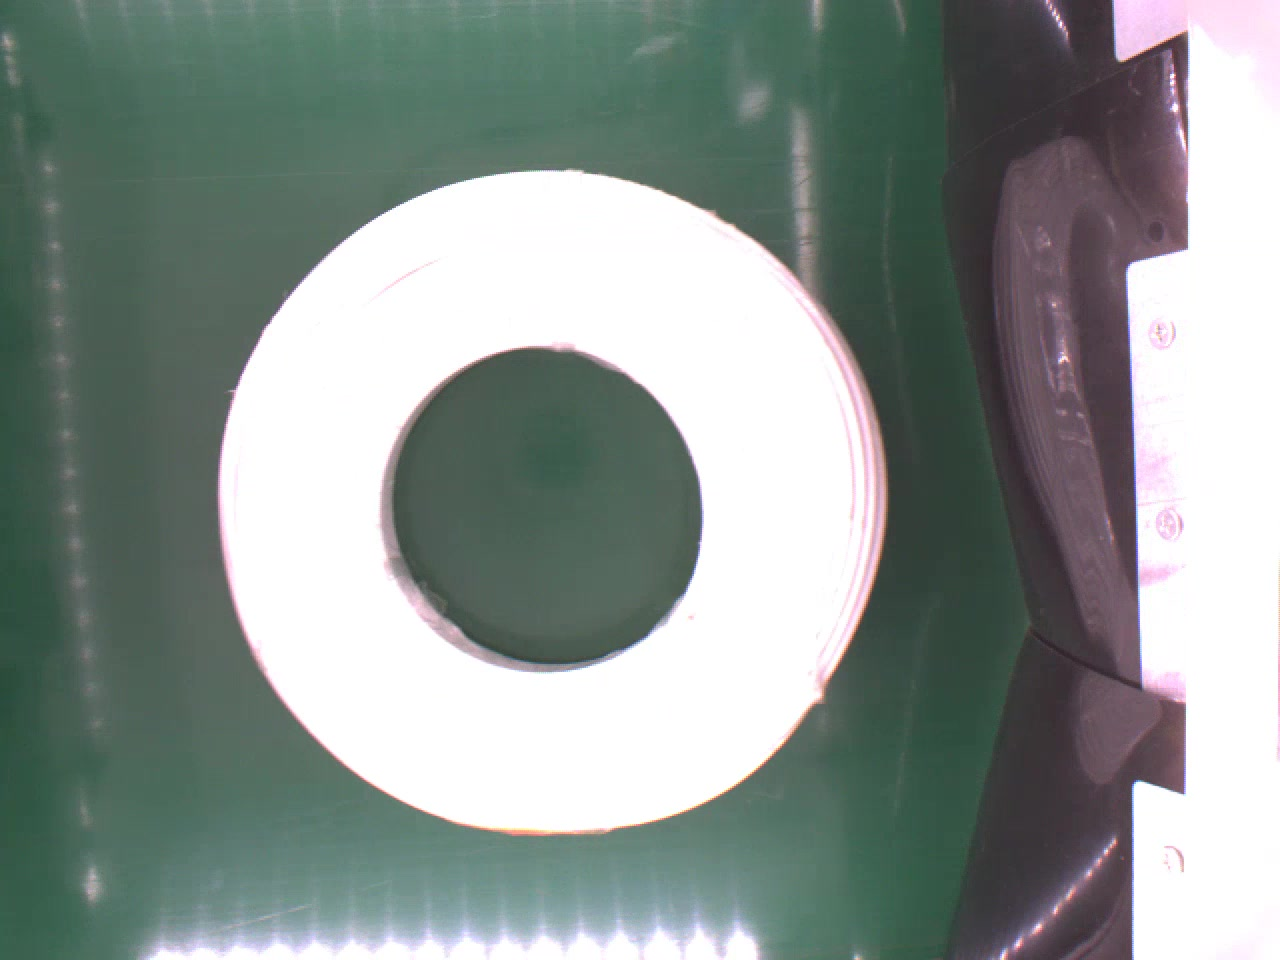white: (211, 162, 892, 835)
